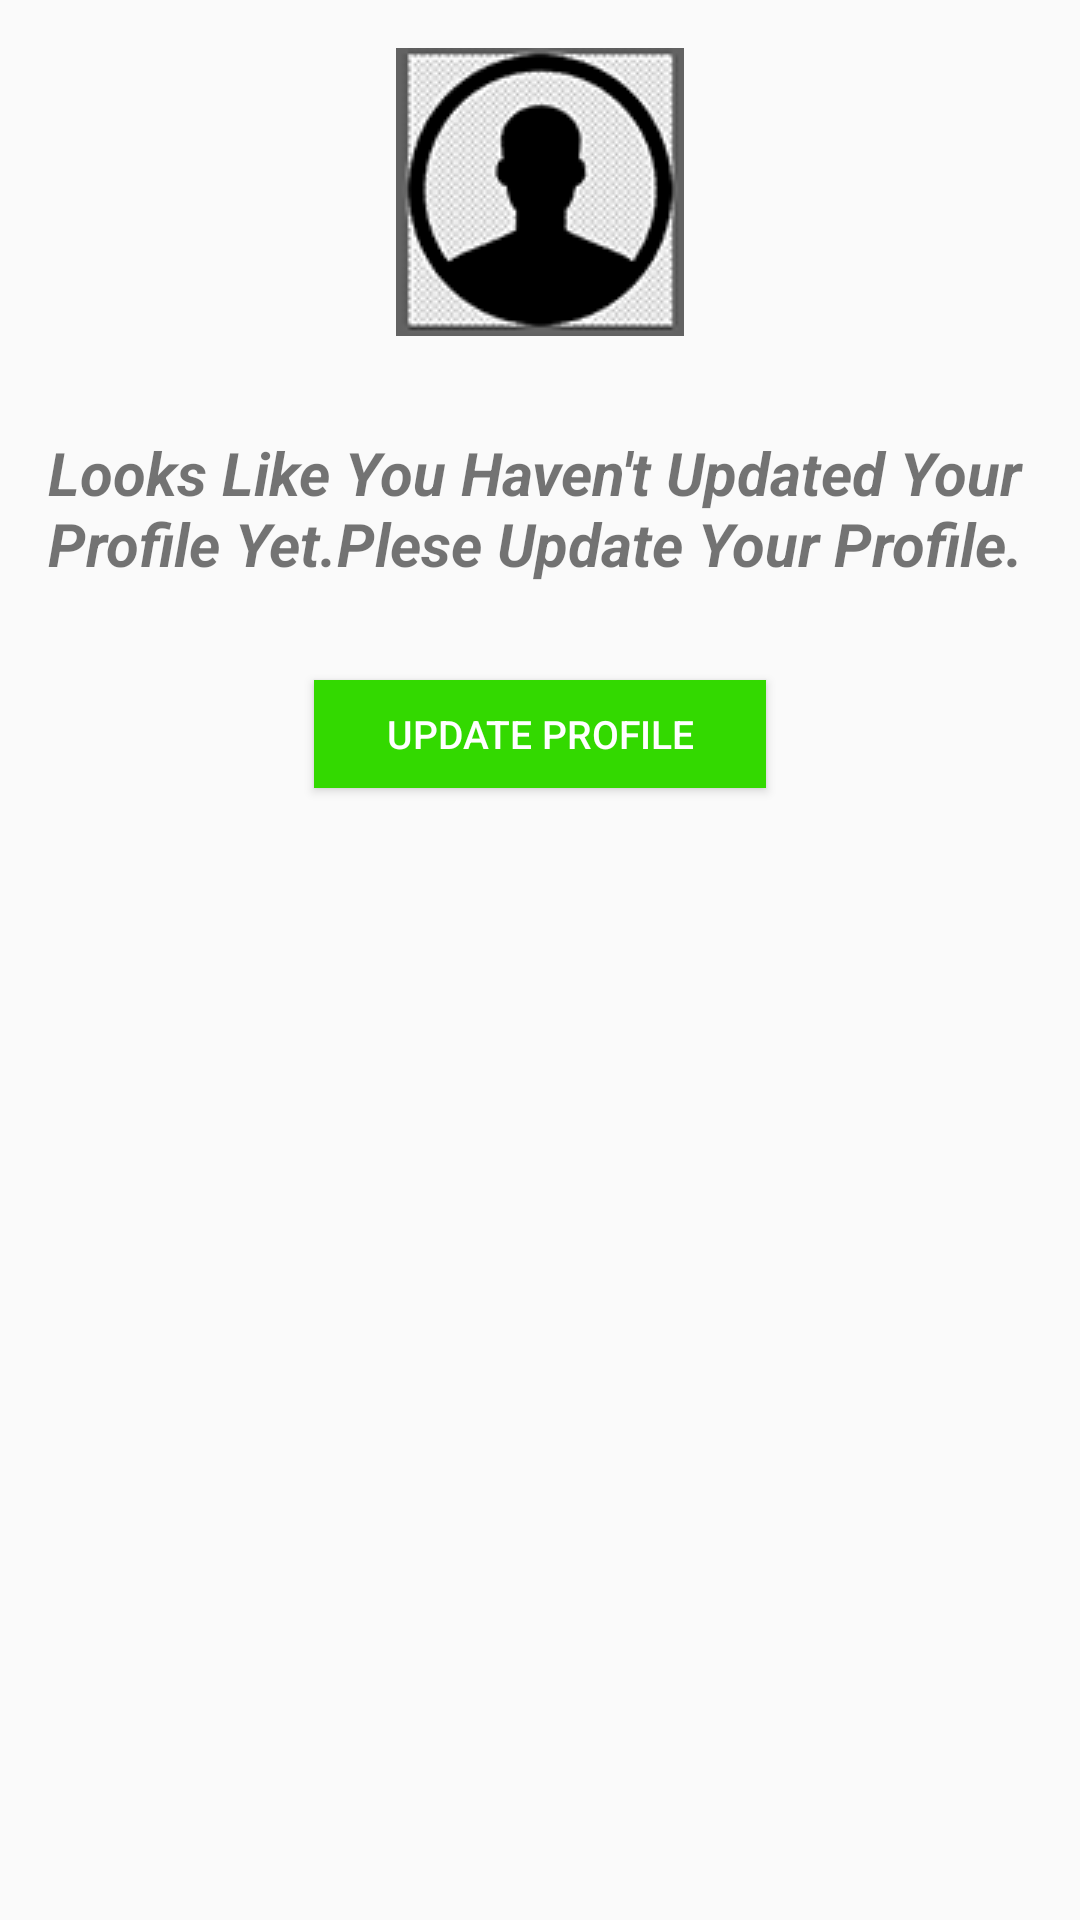

Icon bounding boxes for this 1080 x 1920 phone screenshot, format [left=x1, top=y1, right=x2, bottom=y2]:
account pic: [left=396, top=48, right=684, bottom=336]
